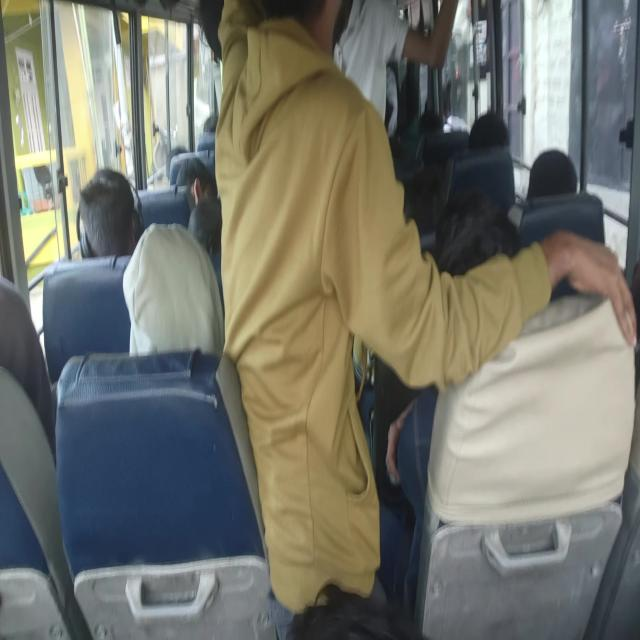person: (240, 0, 360, 294), (141, 224, 224, 400), (269, 570, 414, 640), (459, 183, 521, 322), (0, 295, 40, 488), (312, 0, 394, 90), (79, 167, 129, 252), (518, 153, 578, 217), (189, 199, 245, 260), (409, 147, 450, 222), (460, 118, 506, 150), (179, 156, 204, 198), (420, 109, 445, 146), (162, 137, 190, 164), (204, 108, 222, 135)
